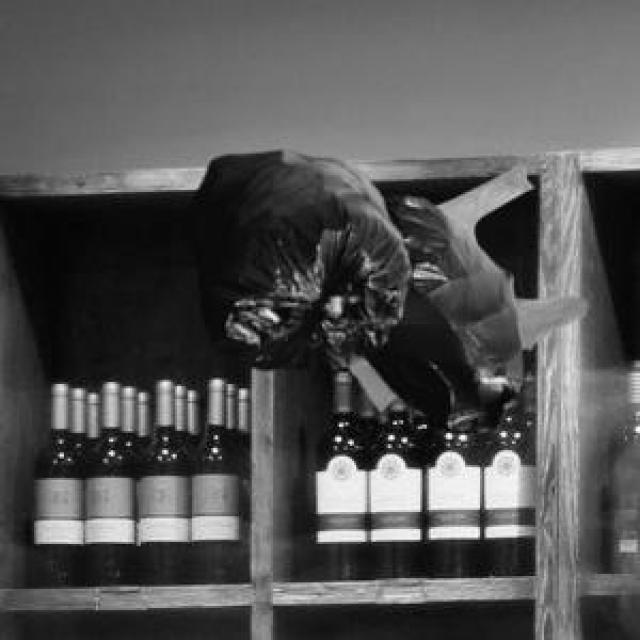miscellaneous trash: (186, 145, 518, 429)
